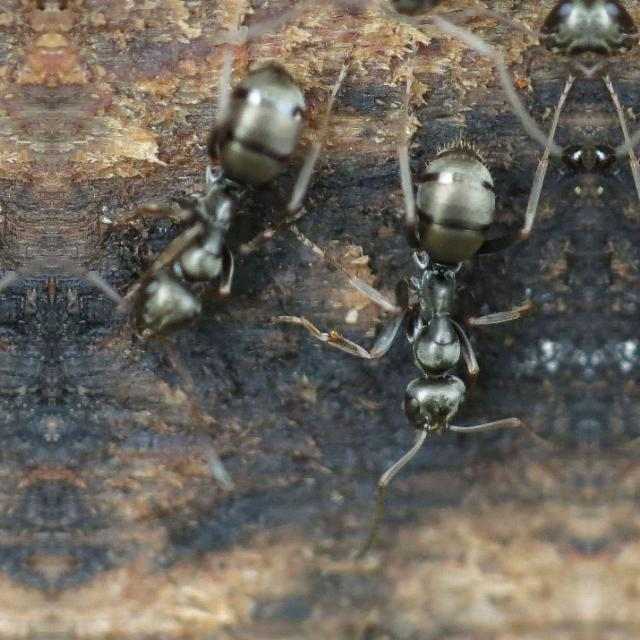Formica: (338, 103, 580, 494), (99, 57, 319, 350)
